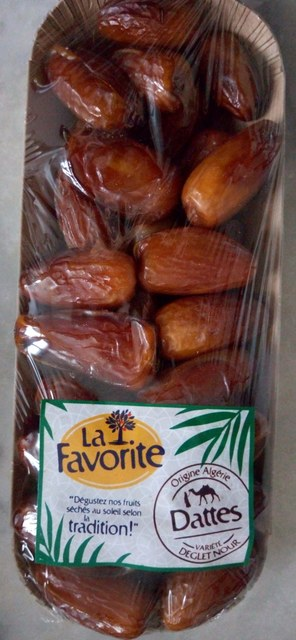Dattes Deglet Nour: (15, 32, 281, 608)
